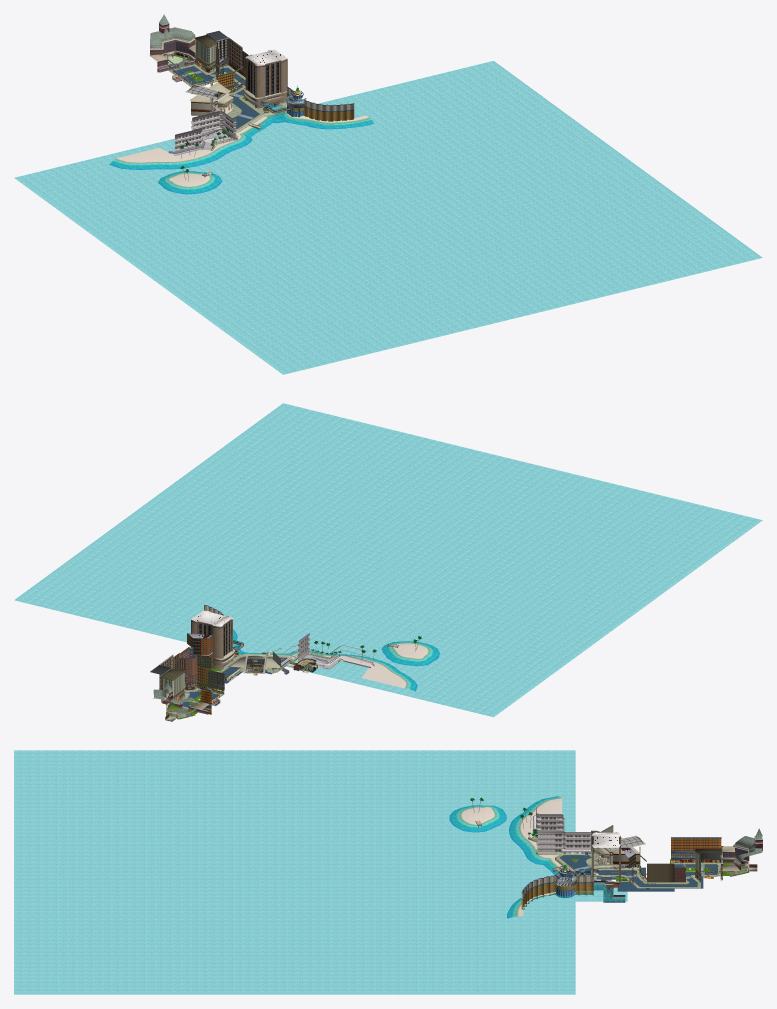
Rendered from stationSquareTest.glb.
The picture shows the model from 3 angles, top to bottom: view 1: azimuth 30°, elevation 25°; view 2: azimuth 150°, elevation 25°; view 3: azimuth 270°, elevation 25°; orthographic projection. The views are drawn at different scales.
Parts seen in each view (by area): view 1: Water, BeachMDL, SS04_hwMDL, SS05_HotelSideMDL, CapitalMDL, SS04_TwMDL, ssact4, ssact4_TrainMDL, ssact1, PawnShopMDL; view 2: Water, BeachMDL, SS04_hwMDL, SS05_HotelSideMDL, CapitalMDL, ssact4, ssact4_TrainMDL, PawnShopMDL, A4Face_02MDL; view 3: Water, BeachMDL, ssact4, SS04_TwMDL, SS04_HotelFrontMDL, CapitalMDL, BurgerShopExtMDL, SS04_hwMDL, ssact4_TrainMDL, ssact1, A4Face_03MDL, SS05_HotelSideMDL (+1 smaller).
Boxes of the visible parts, x1,y1,x2,y2 form: Water: (14, 61, 762, 374); BeachMDL: (109, 111, 373, 194); SS04_hwMDL: (243, 49, 287, 108); SS05_HotelSideMDL: (168, 111, 236, 155); CapitalMDL: (149, 14, 195, 72); SS04_TwMDL: (260, 85, 354, 121); ssact4: (214, 74, 286, 132); ssact4_TrainMDL: (185, 82, 233, 115); ssact1: (168, 58, 240, 87); PawnShopMDL: (194, 35, 217, 72); Water: (15, 403, 762, 717); BeachMDL: (192, 615, 439, 691); SS04_hwMDL: (191, 610, 235, 669); SS05_HotelSideMDL: (298, 633, 374, 669); CapitalMDL: (153, 682, 209, 721); ssact4: (211, 651, 293, 683); ssact4_TrainMDL: (228, 655, 280, 681); PawnShopMDL: (161, 669, 185, 703); A4Face_02MDL: (187, 633, 212, 669); Water: (14, 750, 627, 994); BeachMDL: (449, 796, 575, 918); ssact4: (552, 852, 674, 892); SS04_TwMDL: (521, 865, 593, 909); SS04_HotelFrontMDL: (536, 825, 613, 854); CapitalMDL: (720, 828, 762, 880); BurgerShopExtMDL: (671, 837, 723, 862); SS04_hwMDL: (591, 832, 620, 887); ssact4_TrainMDL: (594, 835, 645, 868); ssact1: (672, 862, 737, 888); A4Face_03MDL: (638, 847, 674, 882); SS05_HotelSideMDL: (528, 805, 564, 846).
Size of what is drawn, in the model's own units: 566 by 56 by 734.
448 materials, 446 textured.
